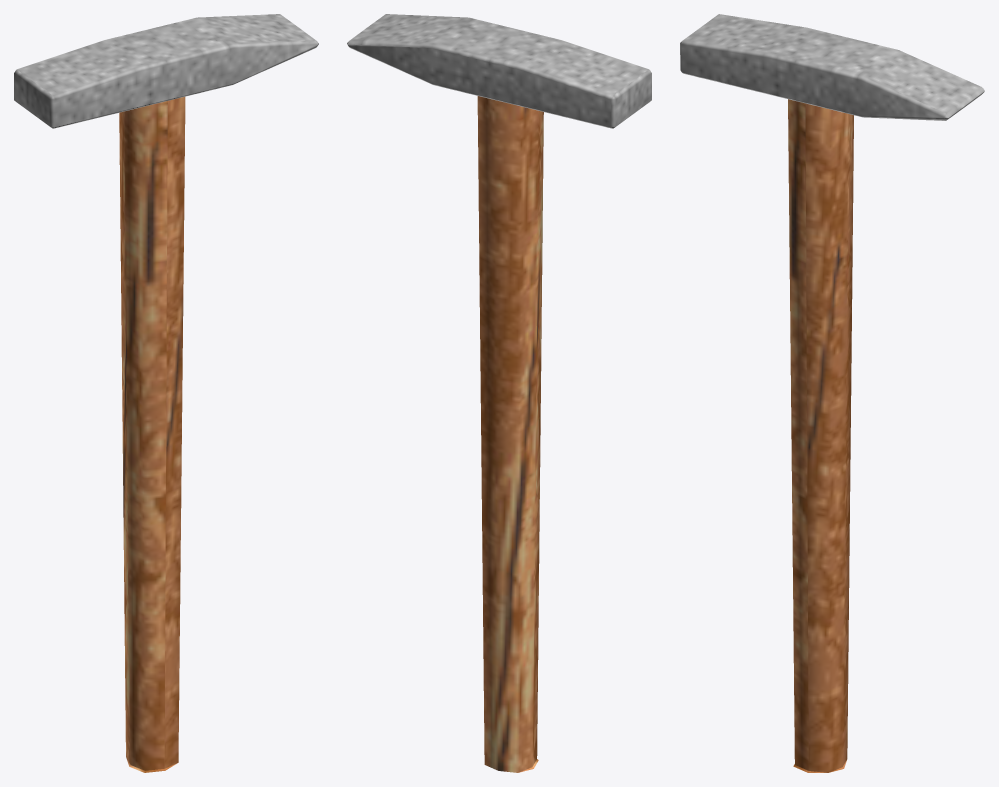
3 renders of one model, left to right at view 1: azimuth 30°, elevation 25°; view 2: azimuth 150°, elevation 25°; view 3: azimuth 330°, elevation 25°, orthographic.
Visible parts, largest first — view 1: Blacksmith Tools, Blacksmith Tools.002; view 2: Blacksmith Tools, Blacksmith Tools.002; view 3: Blacksmith Tools, Blacksmith Tools.002.
Boxes of the visible parts, x1,y1,x2,y2 form: Blacksmith Tools: (119,97,185,772); Blacksmith Tools.002: (14,14,318,128); Blacksmith Tools: (477,96,543,772); Blacksmith Tools.002: (347,14,651,128); Blacksmith Tools: (788,99,853,772); Blacksmith Tools.002: (680,14,984,120).
Size of the model in its own units: 1890 by 4817 by 478.
